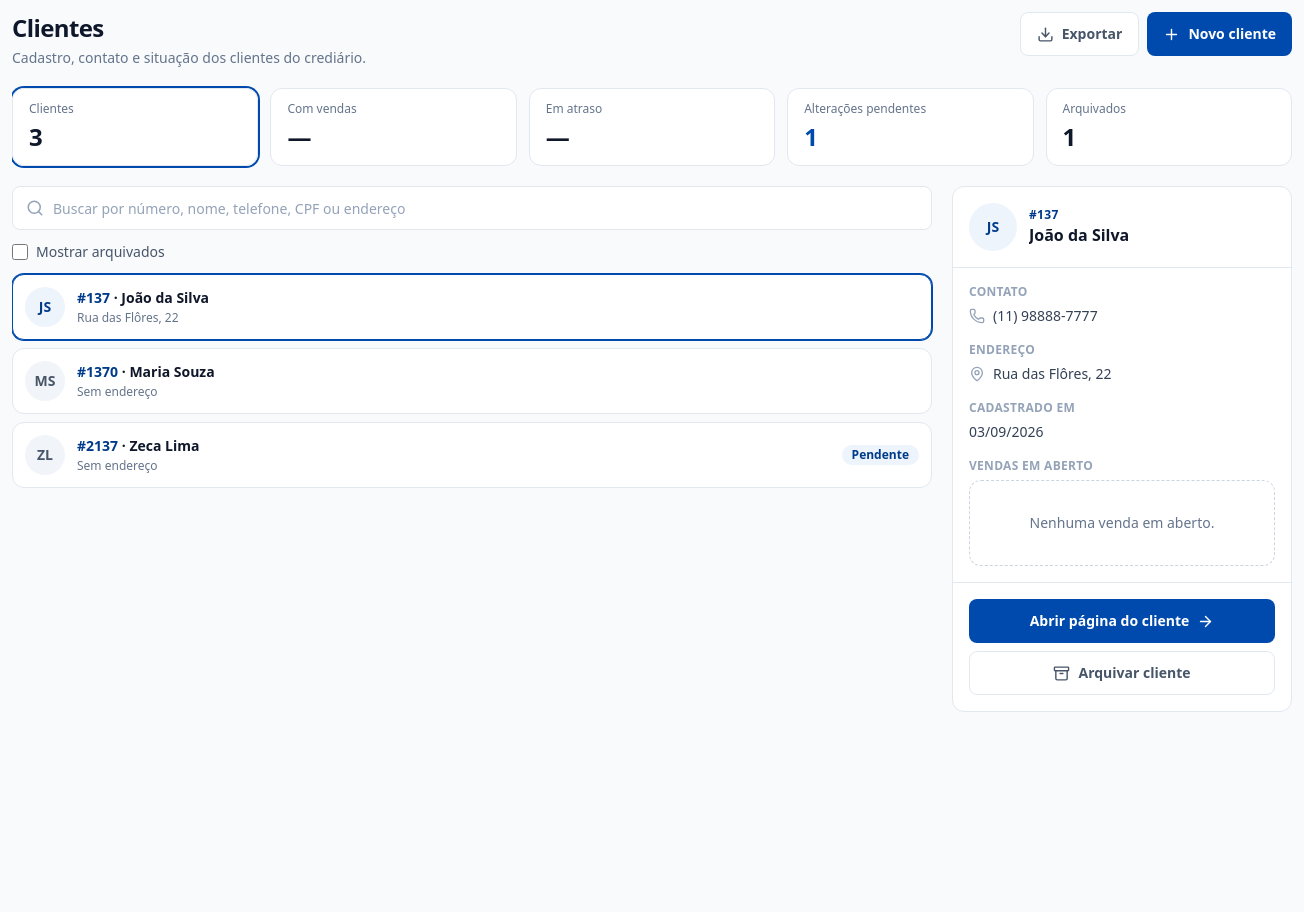
Test: ClientesPage — contadores e filtros › ordena atrasados por dias, valor vencido e número como o Financeiro
Click the button "Em atraso —": x=652, y=127 x1=529 y1=88 x2=775 y2=166
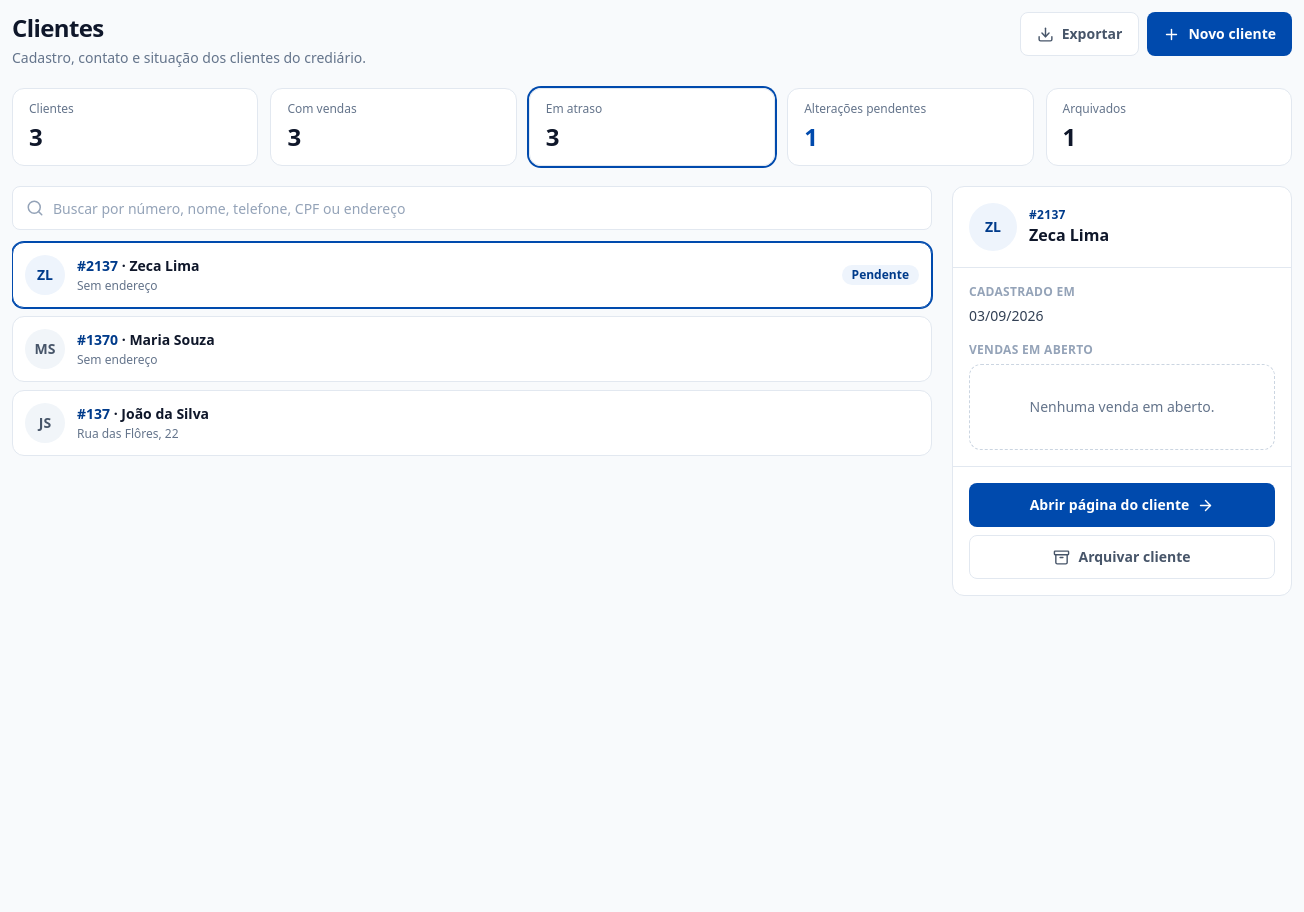
Check: the button "Em atraso 3" is shown, box x1=529 y1=88 x2=775 y2=166
